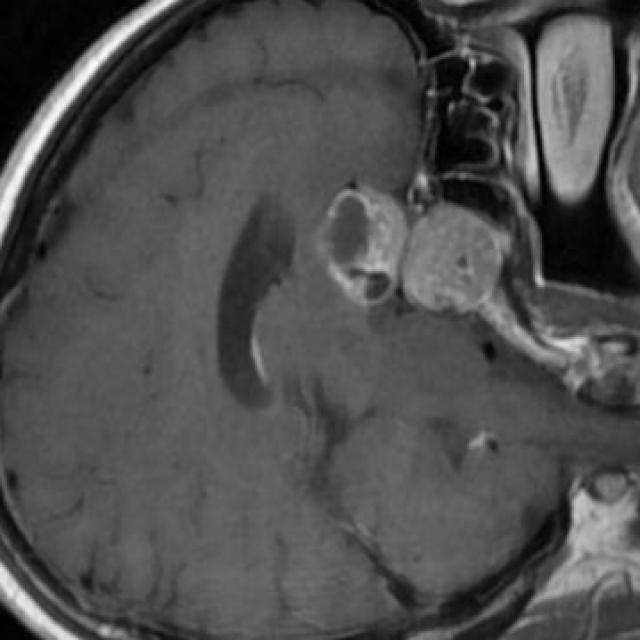pituitary: (324, 187, 503, 312)
